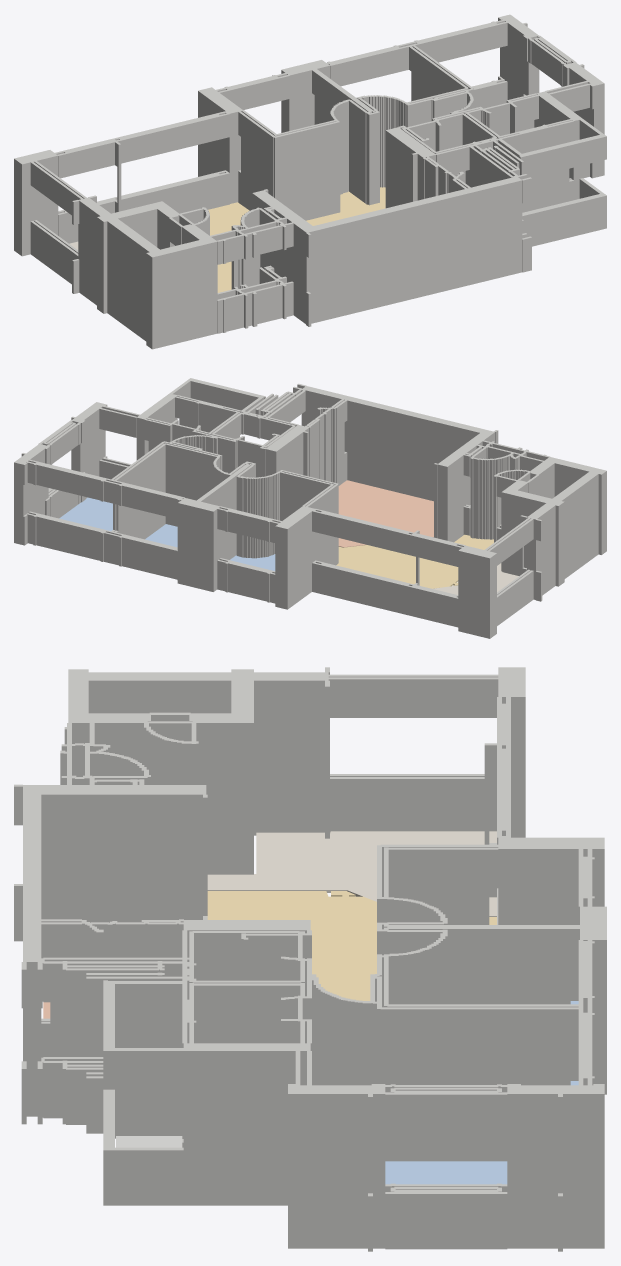
The picture shows the model from 3 angles, top to bottom: view 1: azimuth 30°, elevation 25°; view 2: azimuth 150°, elevation 25°; view 3: azimuth 270°, elevation 25°; orthographic projection. The views are drawn at different scales.
Parts seen in each view (by area): view 1: walls, room:living:9; view 2: walls, room:kitchen:6, room:living:9, room:bedroom:4, room:bedroom:7, room:other:10, room:bedroom:8; view 3: walls, room:other:10, room:living:9, room:bedroom:4, room:ledge:3.
Boxes of the visible parts, x1=… form: walls: x1=14, y1=14, x2=606, y2=349; room:living:9: x1=208, y1=187, x2=385, y2=292; walls: x1=14, y1=378, x2=606, y2=638; room:kitchen:6: x1=338, y1=480, x2=433, y2=547; room:living:9: x1=336, y1=534, x2=493, y2=588; room:bedroom:4: x1=59, y1=497, x2=112, y2=530; room:bedroom:7: x1=145, y1=524, x2=177, y2=547; room:other:10: x1=432, y1=563, x2=518, y2=594; room:bedroom:8: x1=230, y1=554, x2=275, y2=570; walls: x1=14, y1=667, x2=606, y2=1251; room:other:10: x1=207, y1=831, x2=496, y2=916; room:living:9: x1=207, y1=891, x2=496, y2=1000; room:bedroom:4: x1=385, y1=1161, x2=507, y2=1184; room:ledge:3: x1=116, y1=1136, x2=182, y2=1147.
Bounding box in the file's own units: 16.67 × 2.8 × 9.73.
